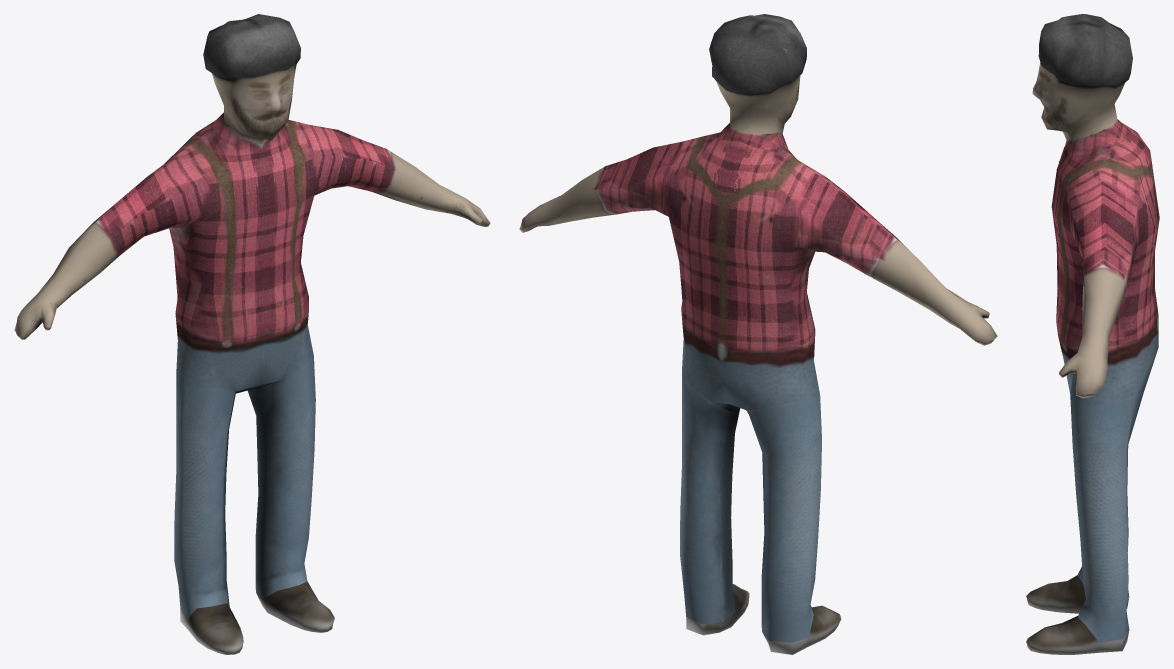
Rendered from char_lumber.fbx.
3 views of the same model, side by side, from view 1: azimuth 30°, elevation 25°; view 2: azimuth 150°, elevation 25°; view 3: azimuth 270°, elevation 25° (orthographic).
Visible parts, largest first — view 1: Plane; view 2: Plane; view 3: Plane.
Part boxes in pixels (bbox=[...]): Plane: bbox=[14, 14, 490, 654]; Plane: bbox=[519, 14, 997, 654]; Plane: bbox=[1026, 14, 1159, 654].
Bounding box in the file's own units: 806 × 985 × 198.
